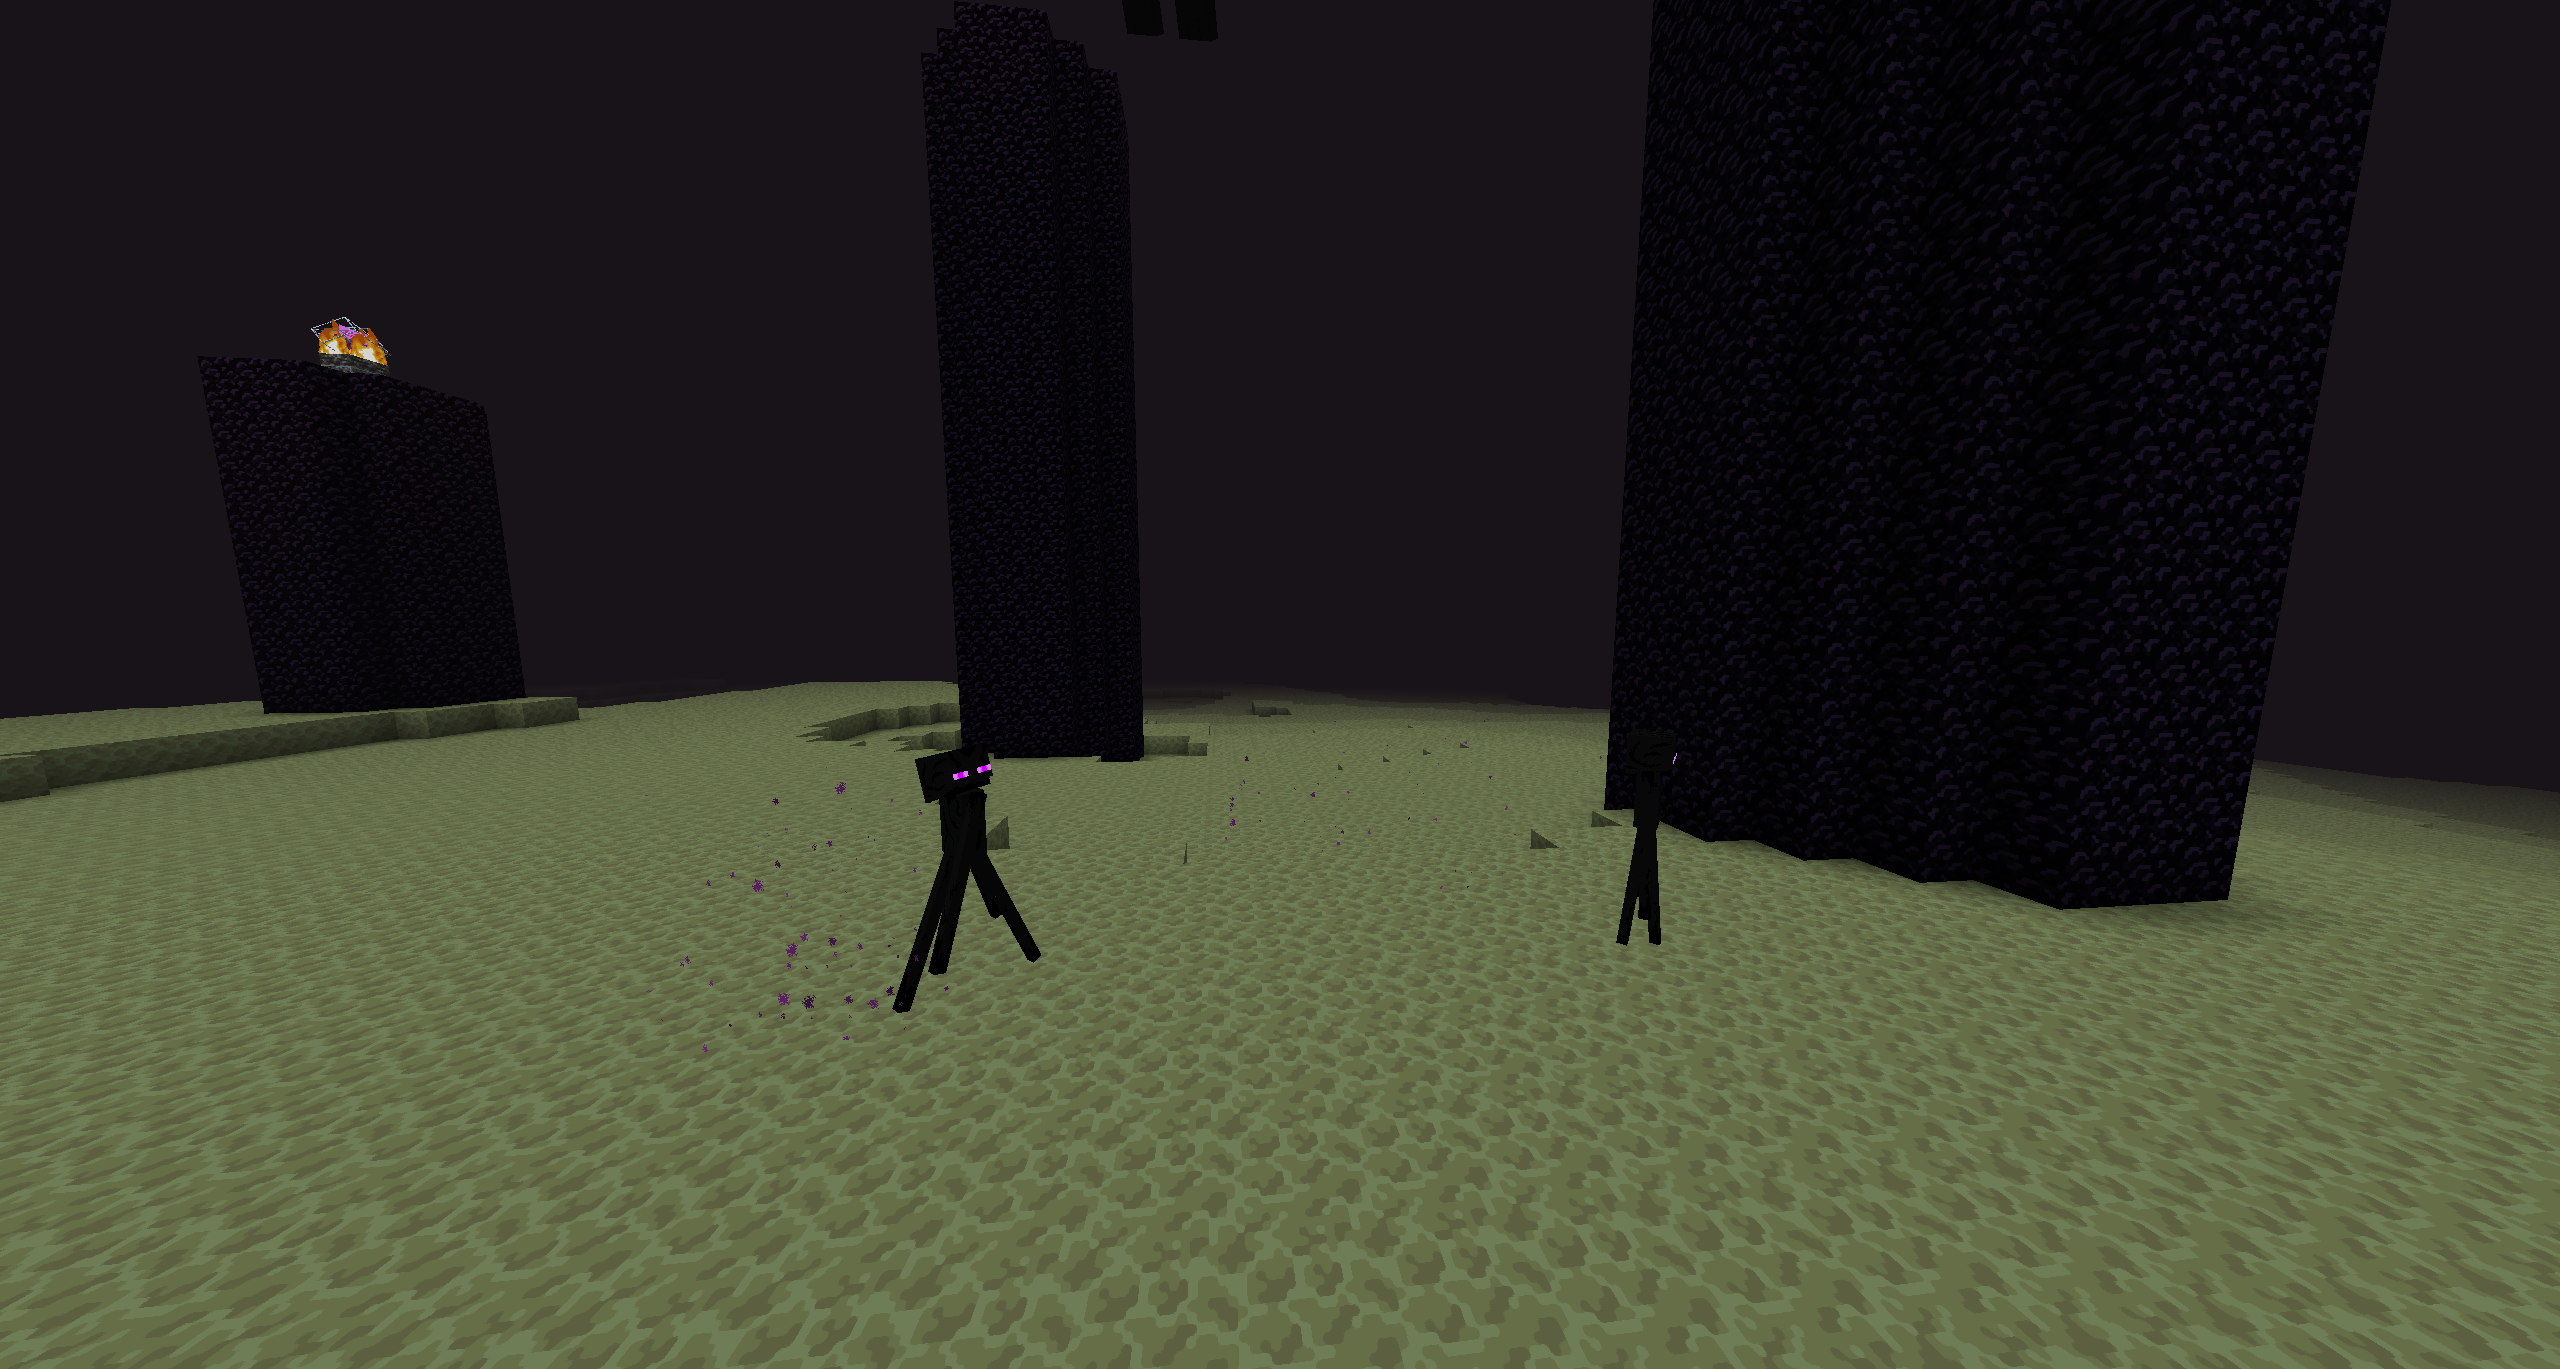enderman: (901, 743, 1043, 1009), (1617, 733, 1686, 956)
